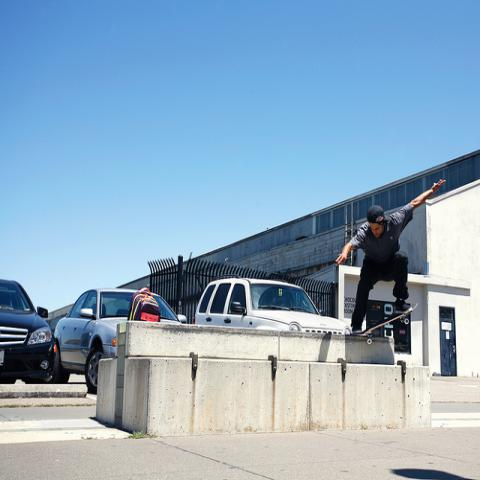car: (53, 287, 187, 395), (193, 277, 354, 334), (0, 278, 50, 384)
